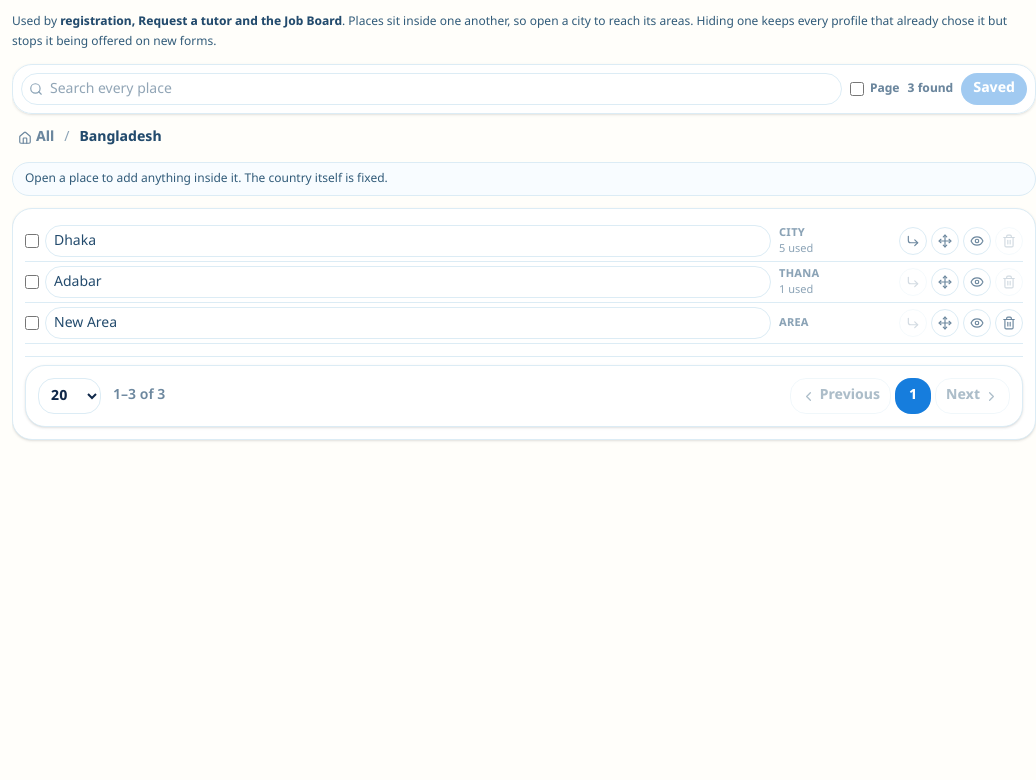
location catalog manager › drops the selection when another place is opened
Click the checkbox named "Select Dhaka". click: (32, 241)
box: [25,234,39,248]
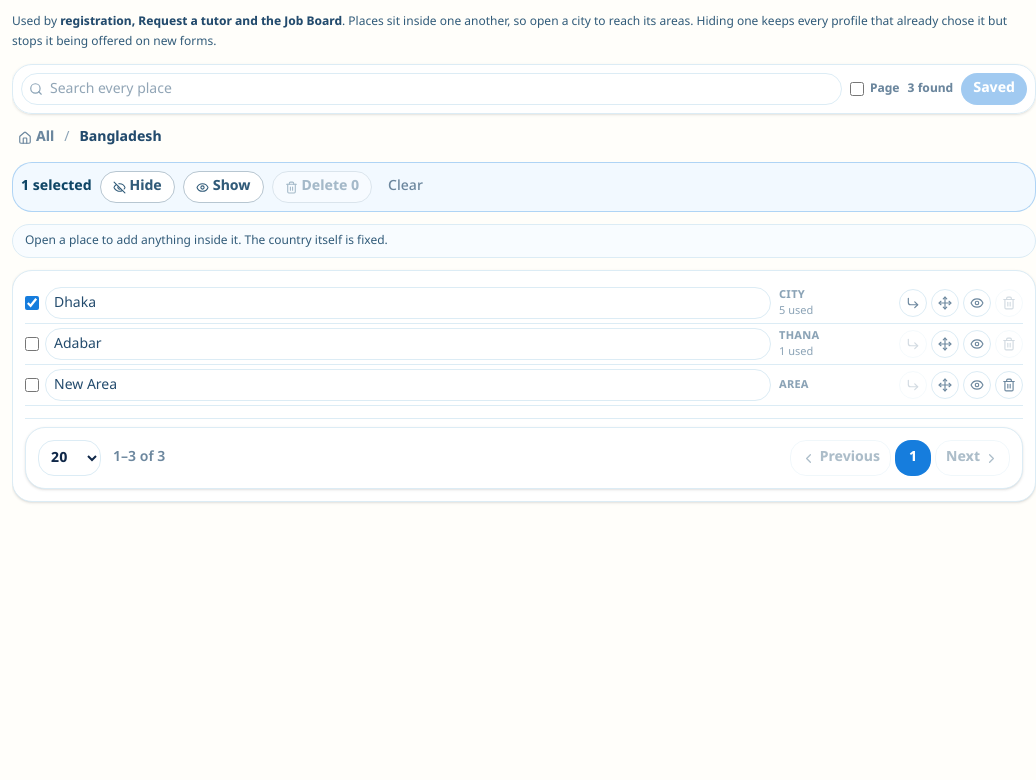
Expected: the text "1 selected" is shown, [21,177,92,197]
Click the button named "Open Dhaka". click: (913, 303)
box: [899,289,927,317]
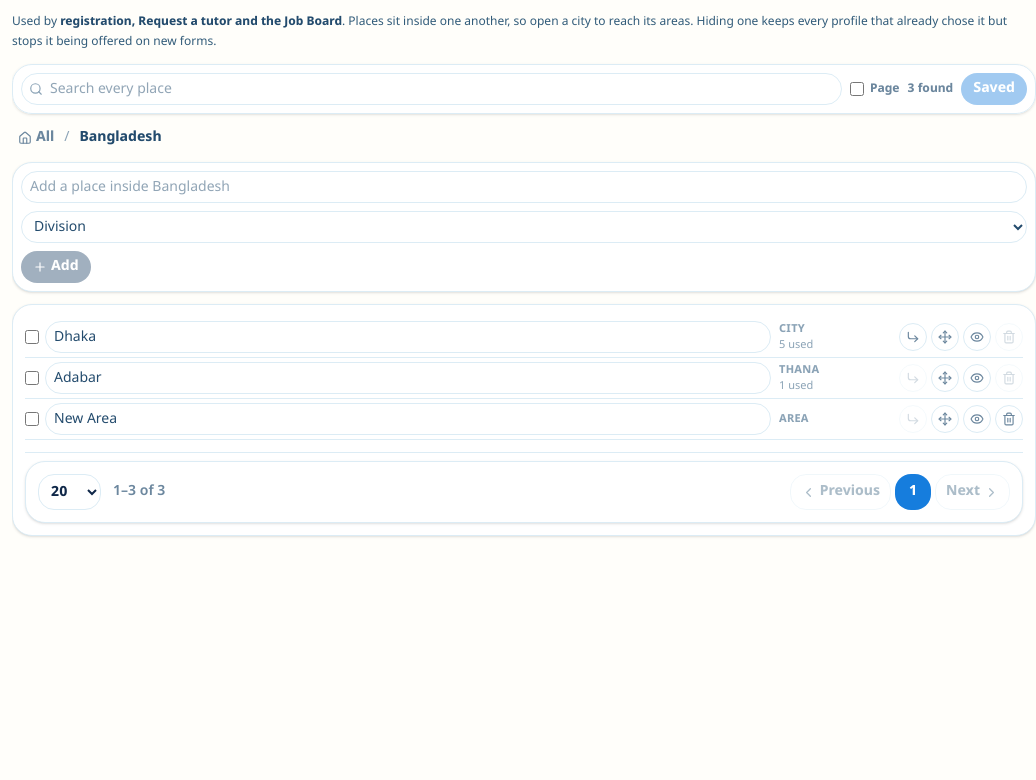
Expected: the text "1 selected" is gone
